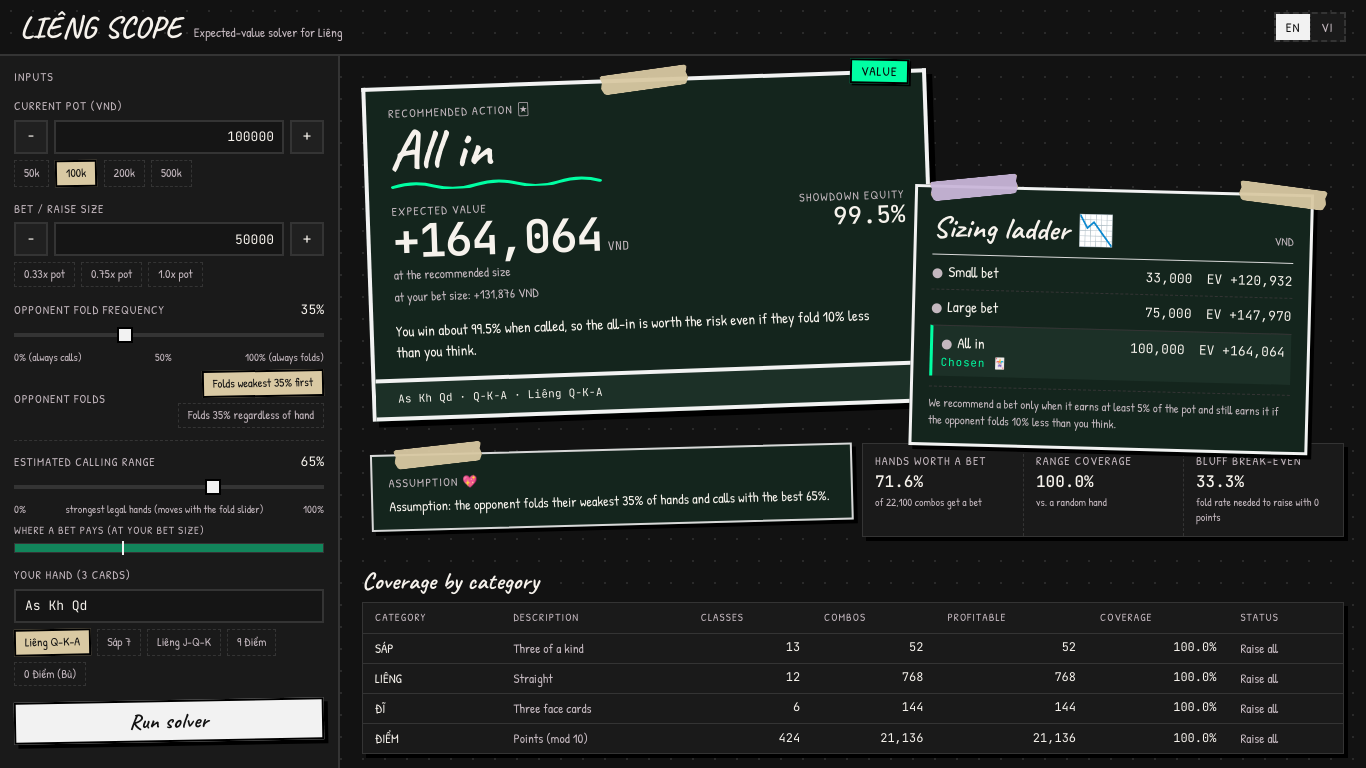
Test: App › the pot stepper moves by 10k and stops at 1,000
Click the button named "Current pot (VND) −10k" at (31,137), box [14, 120, 48, 154]
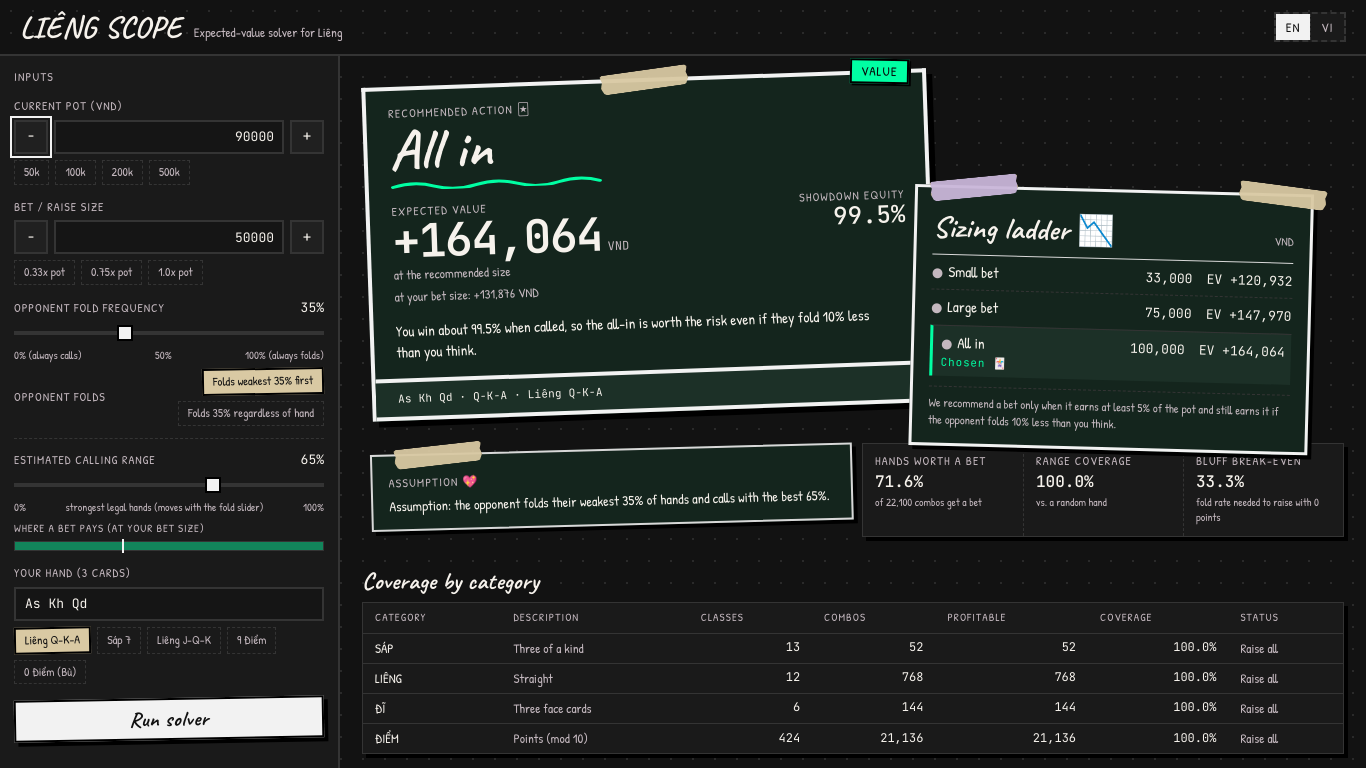
Now the number field labelled "Current pot (VND)" holds "90000"
Replace the text in the number field labelled "Current pot (VND)" with "5000" at (169,137), box [54, 120, 284, 154]
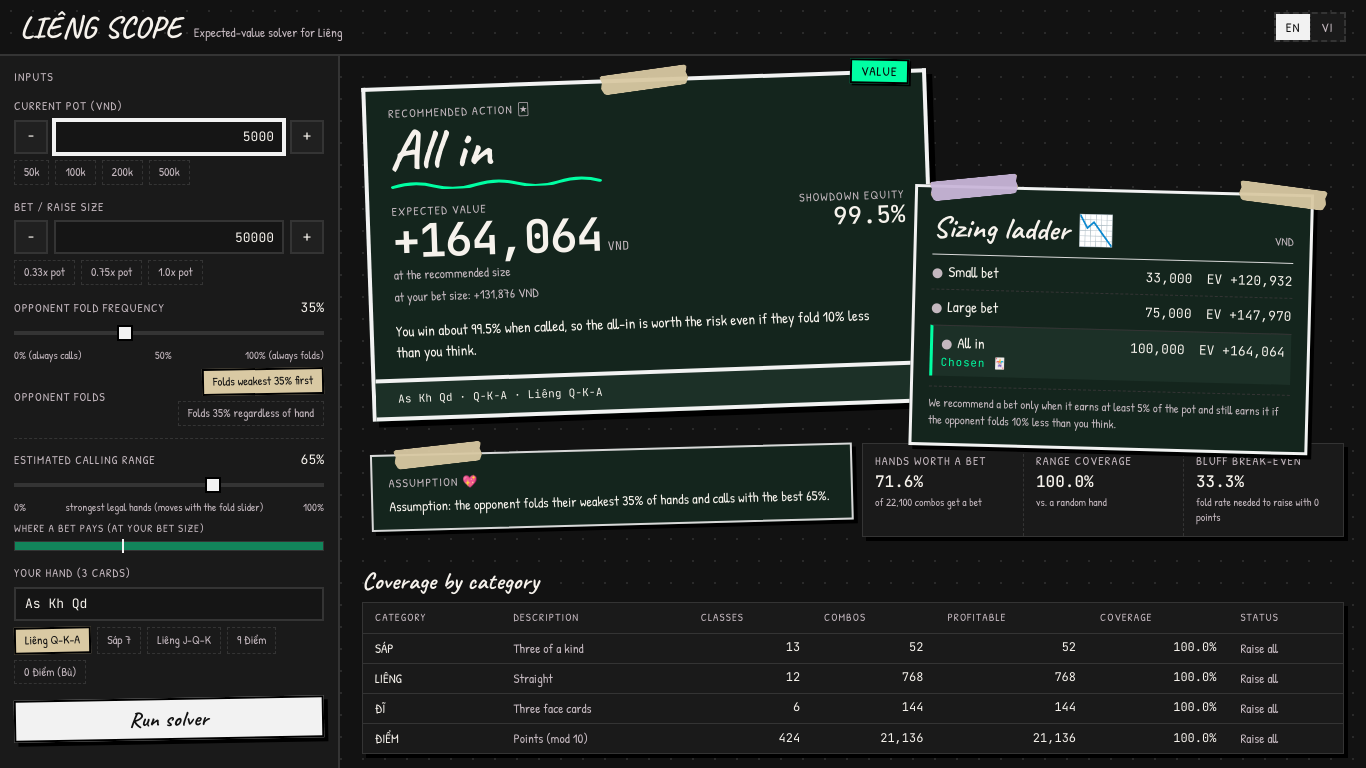
Click the button named "Current pot (VND) −10k" at (31,137), box [14, 120, 48, 154]
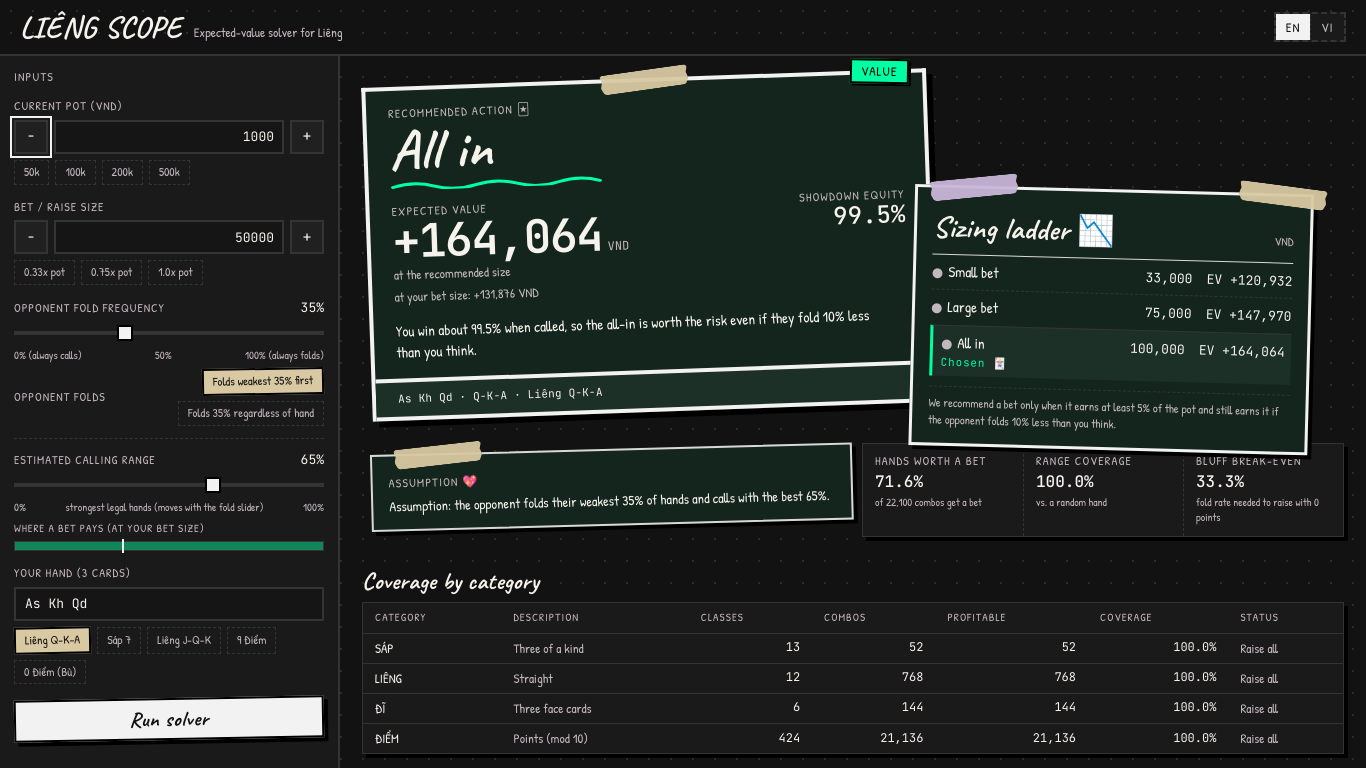
Now the number field labelled "Current pot (VND)" holds "1000", box [54, 120, 284, 154]
